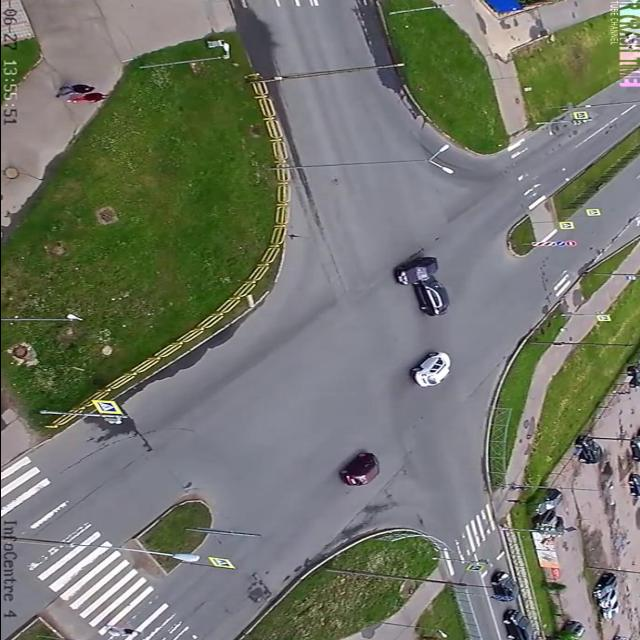accident: (379, 251, 465, 321)
